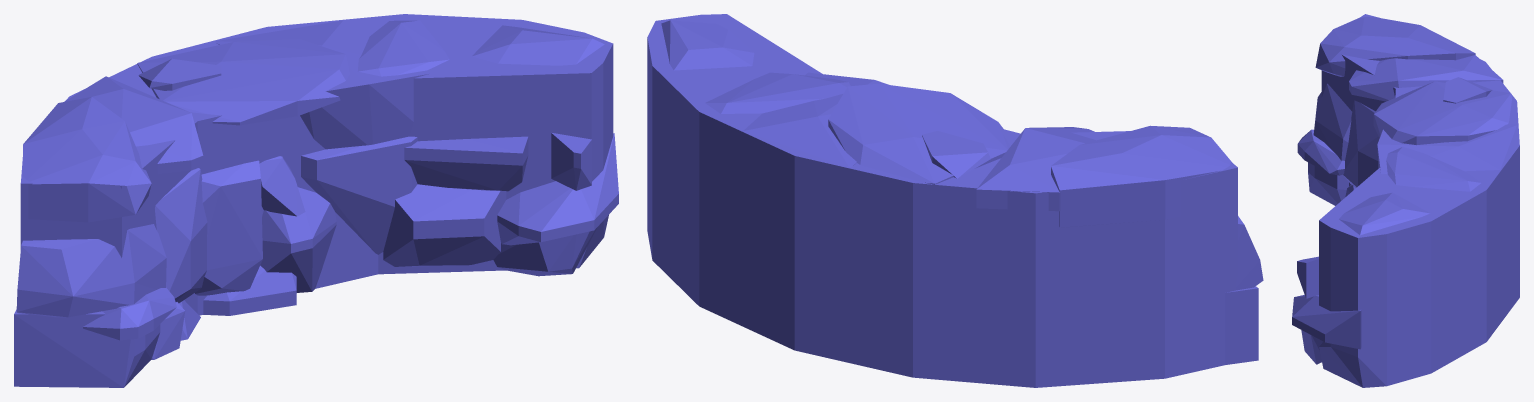
The model's file is Ledge_02_In_Collider_01.FBX.
The picture shows the model from 3 angles, left to right: view 1: azimuth 30°, elevation 25°; view 2: azimuth 150°, elevation 25°; view 3: azimuth 270°, elevation 25°; orthographic projection. The views are drawn at different scales.
Visible parts, largest first — view 1: COLLIDER25, COLLIDER3, COLLIDER6, COLLIDER2, COLLIDER1, COLLIDER16, COLLIDER22, COLLIDER12, COLLIDER13, COLLIDER17, COLLIDER11, COLLIDER15 (+13 smaller); view 2: COLLIDER1, COLLIDER26, COLLIDER25, COLLIDER3, COLLIDER6, COLLIDER5, COLLIDER16, COLLIDER21, COLLIDER20, COLLIDER22, COLLIDER24, COLLIDER2; view 3: COLLIDER25, COLLIDER1, COLLIDER6, COLLIDER3, COLLIDER5, COLLIDER16, COLLIDER21, COLLIDER11, COLLIDER7, COLLIDER20, COLLIDER2, COLLIDER26 (+5 smaller).
Part boxes in pixels (<box>): COLLIDER25: <box>378,14,613,274</box>; COLLIDER3: <box>22,97,151,222</box>; COLLIDER6: <box>137,39,349,125</box>; COLLIDER2: <box>16,224,166,317</box>; COLLIDER1: <box>70,14,404,315</box>; COLLIDER16: <box>215,20,430,149</box>; COLLIDER22: <box>14,309,160,387</box>; COLLIDER12: <box>383,184,506,266</box>; COLLIDER13: <box>301,136,417,254</box>; COLLIDER17: <box>195,160,262,295</box>; COLLIDER11: <box>497,133,618,245</box>; COLLIDER15: <box>404,136,528,191</box>; COLLIDER1: <box>699,109,1035,387</box>; COLLIDER26: <box>1035,131,1237,387</box>; COLLIDER25: <box>647,14,822,305</box>; COLLIDER3: <box>1051,125,1231,227</box>; COLLIDER6: <box>828,83,1010,184</box>; COLLIDER5: <box>976,127,1095,211</box>; COLLIDER16: <box>743,72,888,167</box>; COLLIDER21: <box>705,72,850,113</box>; COLLIDER20: <box>661,20,754,70</box>; COLLIDER22: <box>1225,286,1258,364</box>; COLLIDER24: <box>922,131,990,178</box>; COLLIDER2: <box>1235,216,1263,290</box>; COLLIDER25: <box>1319,168,1486,387</box>; COLLIDER1: <box>1395,62,1519,341</box>; COLLIDER6: <box>1373,81,1511,145</box>; COLLIDER3: <box>1315,17,1475,76</box>; COLLIDER5: <box>1349,55,1503,101</box>; COLLIDER16: <box>1377,124,1516,173</box>; COLLIDER21: <box>1386,147,1480,191</box>; COLLIDER11: <box>1292,295,1361,349</box>; COLLIDER7: <box>1343,100,1379,187</box>; COLLIDER20: <box>1339,192,1429,235</box>; COLLIDER2: <box>1313,84,1352,160</box>; COLLIDER26: <box>1321,14,1485,185</box>.
Size of the model in its own units: 383 by 128 by 160.
